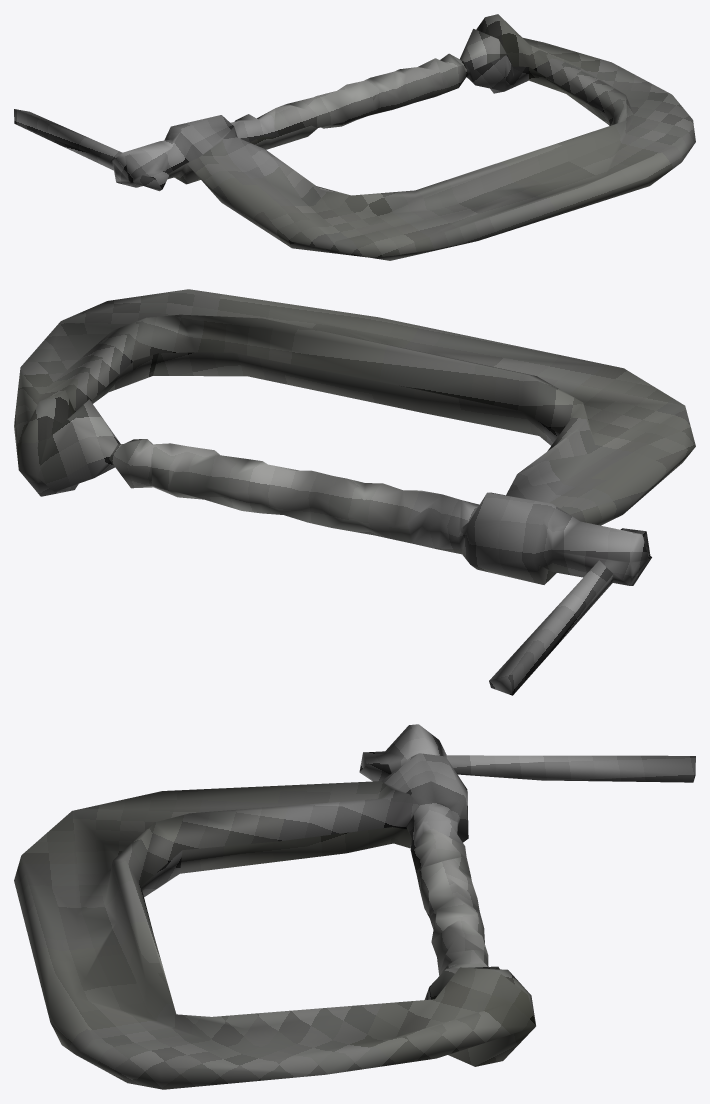
File: Pony_C_Clamp_1440-low.glb
3 views of the same model, one above another, from view 1: azimuth 30°, elevation 25°; view 2: azimuth 150°, elevation 25°; view 3: azimuth 270°, elevation 25° (orthographic). The views are drawn at different scales.
Visible parts, largest first — view 1: Pony_C_Clamp_1440; view 2: Pony_C_Clamp_1440; view 3: Pony_C_Clamp_1440.
Boxes of the visible parts, left/top/right/bottom form: Pony_C_Clamp_1440: left=14, top=14, right=695, bottom=260; Pony_C_Clamp_1440: left=14, top=289, right=695, bottom=695; Pony_C_Clamp_1440: left=14, top=724, right=695, bottom=1089.
Size of the model in its own units: 0.199 by 0.0263 by 0.1719.
1 material, 1 textured.
